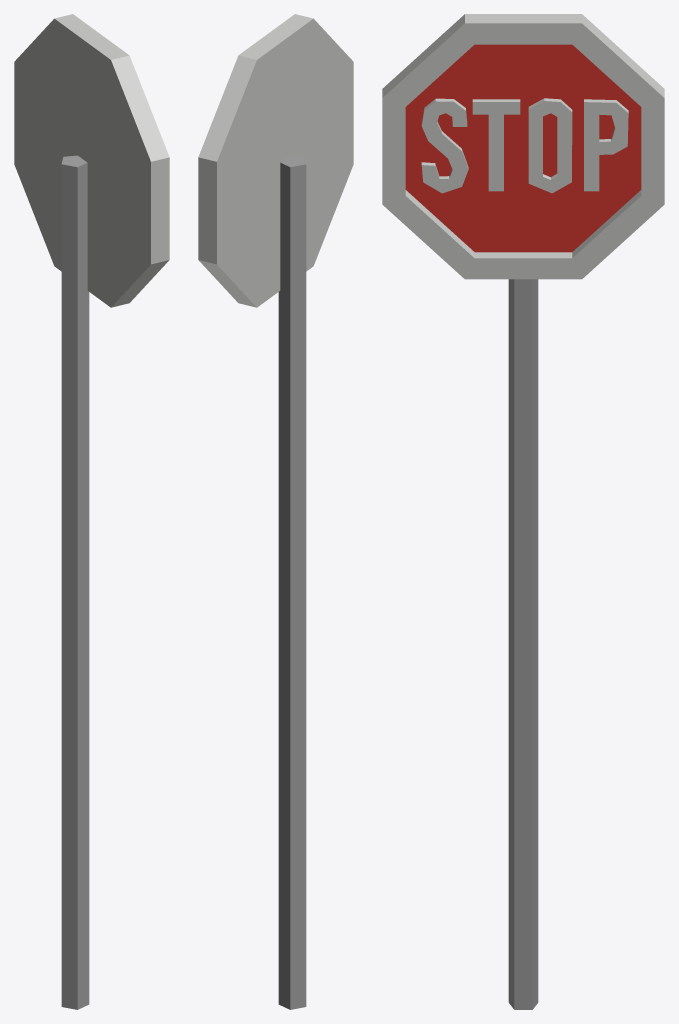
Rendered from Sign_Stop.glb.
3 views of the same model, side by side, from view 1: azimuth 30°, elevation 25°; view 2: azimuth 150°, elevation 25°; view 3: azimuth 270°, elevation 25° (orthographic). The views are drawn at different scales.
Parts seen in each view (by area): view 1: Sign_Stop.obj; view 2: Sign_Stop.obj; view 3: Sign_Stop.obj.
Boxes of the visible parts, left/top/right/bottom form: Sign_Stop.obj: left=14, top=14, right=169, bottom=1009; Sign_Stop.obj: left=198, top=14, right=353, bottom=1009; Sign_Stop.obj: left=382, top=14, right=664, bottom=1009.
Bounding box in the file's own units: 0.0233 × 0.5377 × 0.1384.
